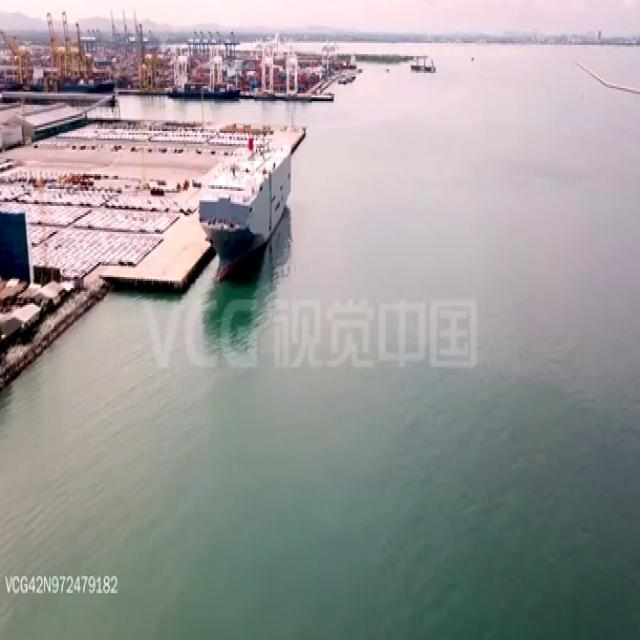cargoship: (195, 137, 292, 283)
